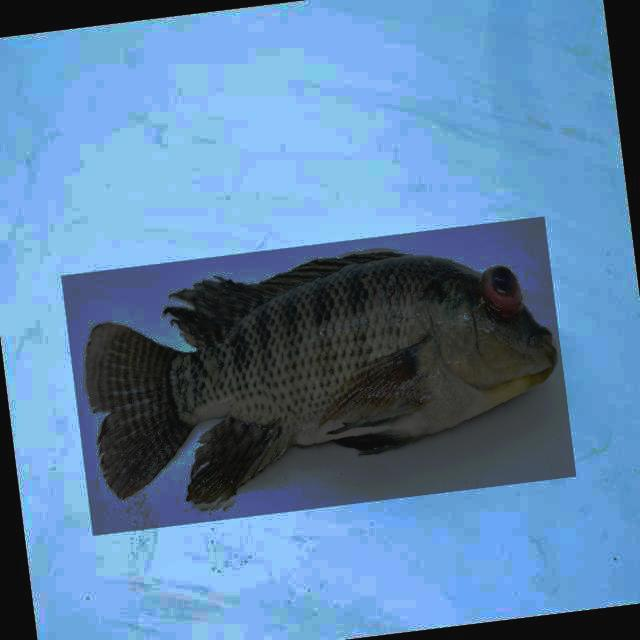Streptococcus: (84, 253, 556, 506)
